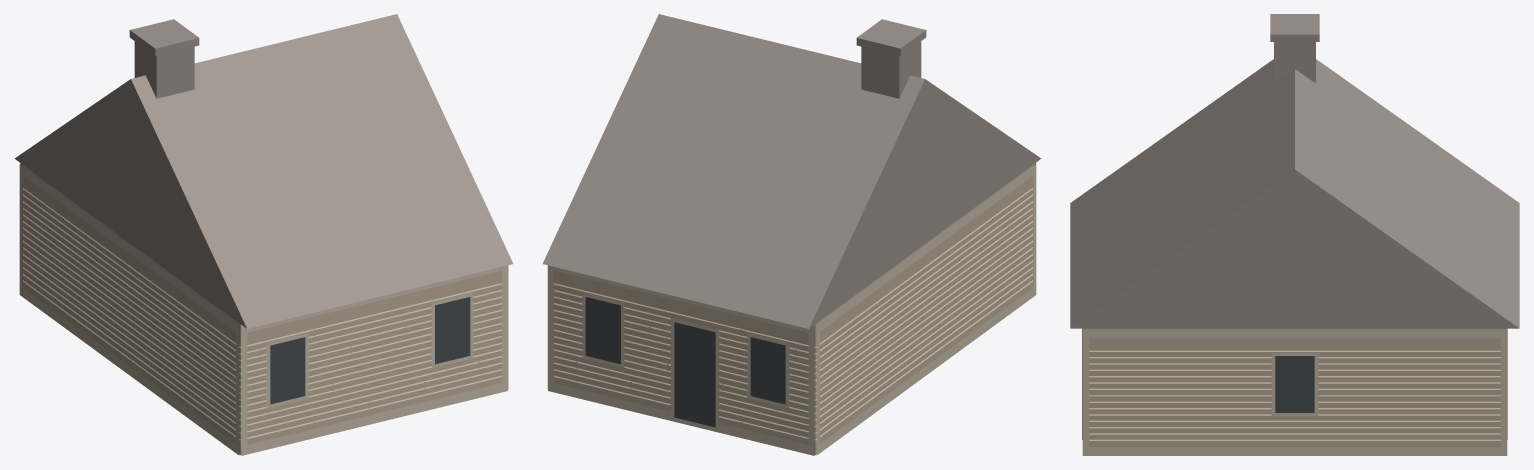
The model's file is recon_1835_south_d4_006__inferred_1835.glb.
3 views of the same model, side by side, from view 1: azimuth 30°, elevation 25°; view 2: azimuth 150°, elevation 25°; view 3: azimuth 270°, elevation 25° (orthographic). The views are drawn at different scales.
Parts seen in each view (by area): view 1: recon_1835_south_d4_006__inferred_1835; view 2: recon_1835_south_d4_006__inferred_1835; view 3: recon_1835_south_d4_006__inferred_1835.
Part boxes in pixels (x1,y1,x2,y2): recon_1835_south_d4_006__inferred_1835: (14,14,513,455); recon_1835_south_d4_006__inferred_1835: (542,14,1041,455); recon_1835_south_d4_006__inferred_1835: (1070,14,1519,455).
Size of the model in its own units: 5.99 by 7.05 by 8.94.
